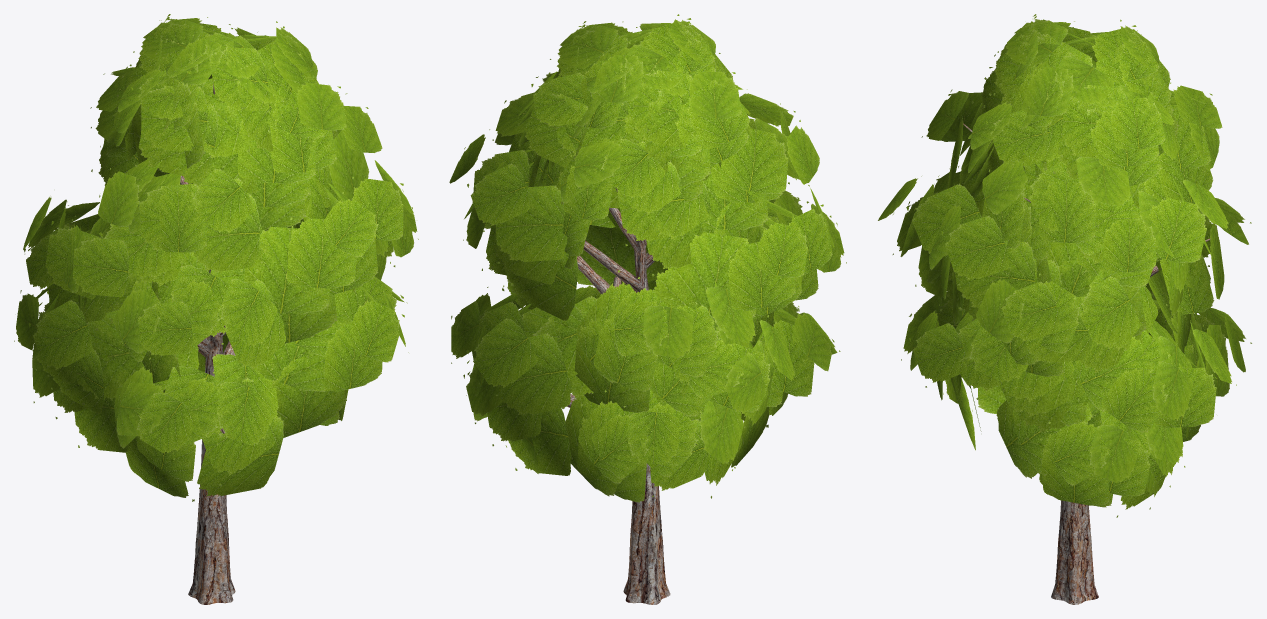
File: myTree_02.fbx
3 renders of one model, left to right at view 1: azimuth 30°, elevation 25°; view 2: azimuth 150°, elevation 25°; view 3: azimuth 270°, elevation 25°, orthographic.
Parts seen in each view (by area): view 1: Tree_1, Tree_0; view 2: Tree_1, Tree_0; view 3: Tree_1, Tree_0.
Part boxes in pixels (bbox=[...]): Tree_1: bbox=[14, 14, 418, 501]; Tree_0: bbox=[180, 83, 235, 604]; Tree_1: bbox=[449, 14, 846, 502]; Tree_0: bbox=[567, 187, 717, 604]; Tree_1: bbox=[878, 14, 1251, 517]; Tree_0: bbox=[963, 123, 1210, 604].
Bounding box in the file's own units: 299 × 463 × 279.
2 materials, 2 textured.
